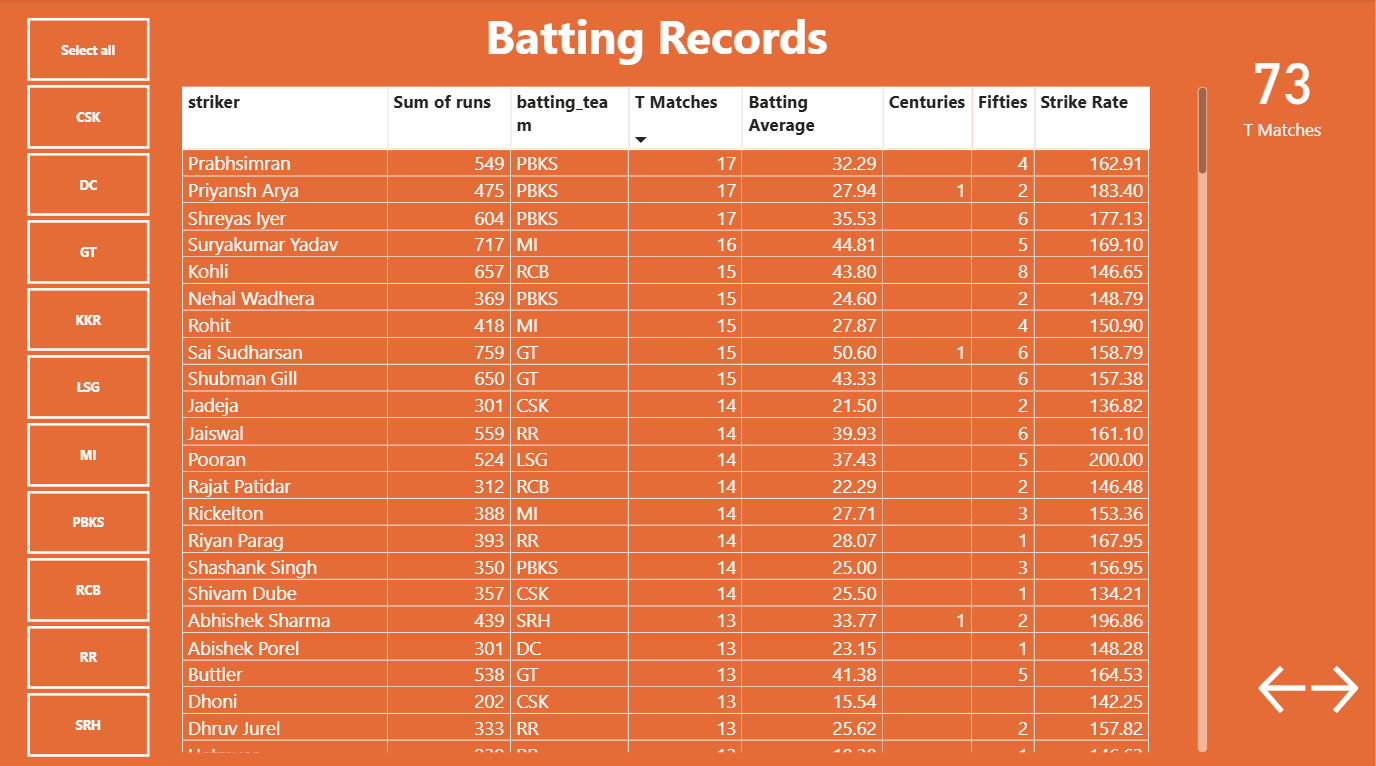

The page's visual inventory and layout, read from the dashboard file:
{"tool":"powerbi","page":{"name":"Page 4","canvas":[1280,720],"ordinal":1},"visuals":[{"type":"slicer","fields":{"Values":["Team Name.TEAMS"]},"box":[0,10.5,164,701.2],"z":0},{"type":"card","fields":{"Values":["ipl2025.T Matches"]},"box":[1129.1,15.1,130.2,136],"z":1000},{"type":"tableEx","fields":{"Values":["ipl2025.striker","ipl2025.runs","ipl2025.batting_team","ipl2025.T Matches","ipl2025.Batting Average","ipl2025.Centuries","ipl2025.Fifties","ipl2025.Strike Rate"]},"box":[164,76.7,965.1,629.1],"z":2000},{"type":"actionButton","box":[1214,615.1,54.7,54.7],"z":2001},{"type":"actionButton","box":[1167.4,615.1,54.7,54.7],"z":2002},{"type":"textbox","box":[447.7,0,508.1,76.7],"z":2003}]}

Visuals, with their boxes in screenshot pixels (x1, y1, x2, y2), scaled from the page's 1280x720 canvas onto the 1376x766 screenshot:
slicer - Team Name.TEAMS: bbox(0, 11, 176, 757)
card - ipl2025.T Matches: bbox(1214, 16, 1354, 161)
tableEx - ipl2025.striker x ipl2025.runs: bbox(176, 82, 1214, 751)
actionButton: bbox(1305, 654, 1364, 713)
actionButton: bbox(1255, 654, 1314, 713)
textbox: bbox(481, 0, 1027, 82)
